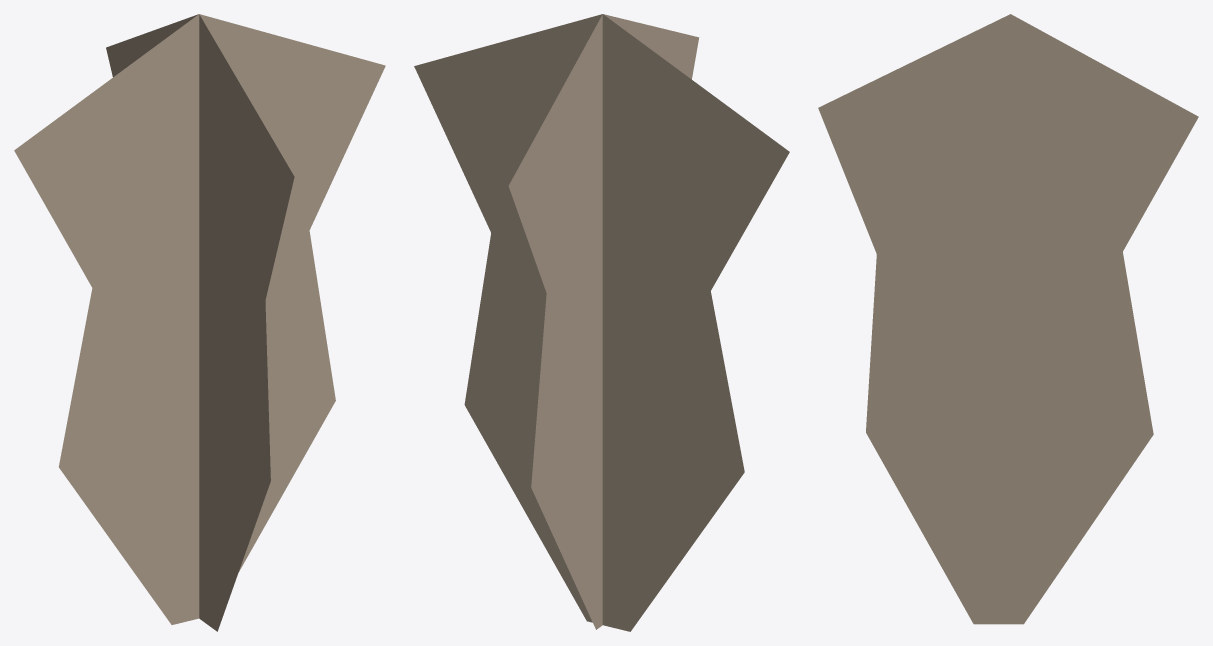
File: Poplar_Tree_16face.fbx
3 renders of one model, left to right at view 1: azimuth 30°, elevation 25°; view 2: azimuth 150°, elevation 25°; view 3: azimuth 270°, elevation 25°, orthographic.
Parts seen in each view (by area): view 1: Poplar_CrossPanels; view 2: Poplar_CrossPanels; view 3: Poplar_CrossPanels.
Boxes of the visible parts, x1,y1,x2,y2 form: Poplar_CrossPanels: [14, 14, 385, 631]; Poplar_CrossPanels: [414, 14, 789, 631]; Poplar_CrossPanels: [818, 14, 1198, 624].
Bounding box in the file's own units: 2743 × 4262 × 2411.
